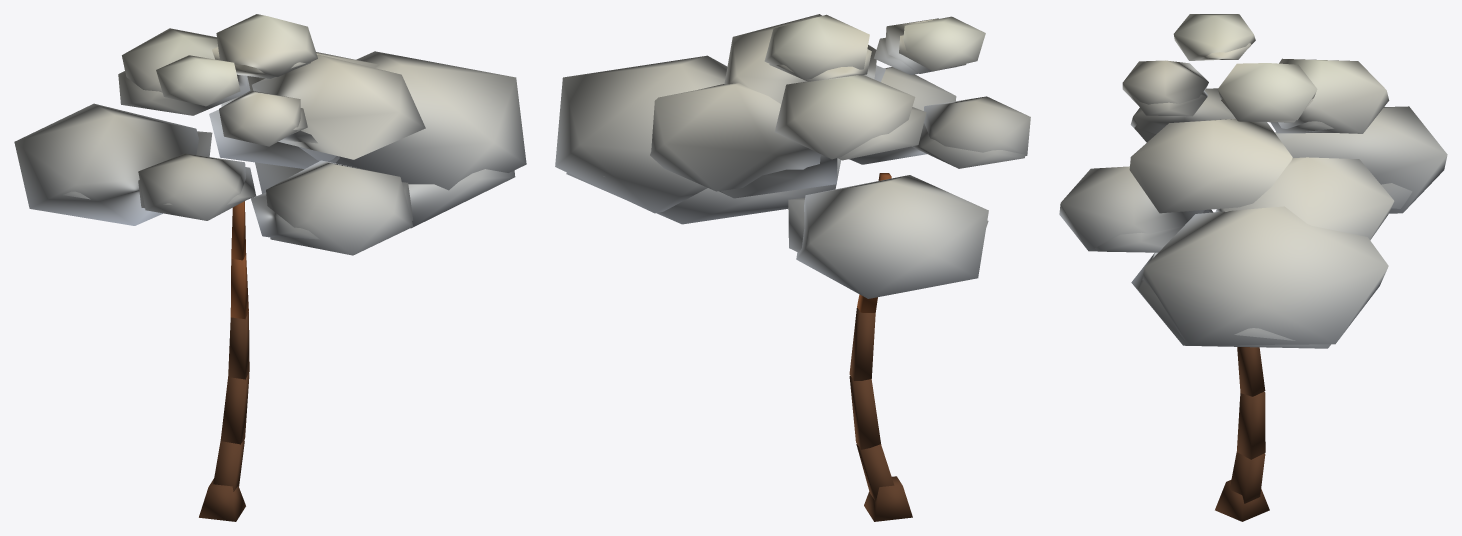
3 views of the same model, side by side, from view 1: azimuth 30°, elevation 25°; view 2: azimuth 150°, elevation 25°; view 3: azimuth 270°, elevation 25° (orthographic). The views are drawn at different scales.
Visible parts, largest first — view 1: crown, trunk.001, trunk2; view 2: crown, trunk.001; view 3: crown, trunk.001.
Boxes of the visible parts, x1,y1,x2,y2 form: crown: [14, 14, 526, 255]; trunk.001: [199, 312, 249, 521]; trunk2: [230, 201, 248, 319]; crown: [555, 14, 1030, 298]; trunk.001: [849, 307, 912, 521]; crown: [1059, 14, 1447, 348]; trunk.001: [1215, 347, 1269, 521].
Size of the model in its own units: 15.64 by 15.97 by 11.76.
